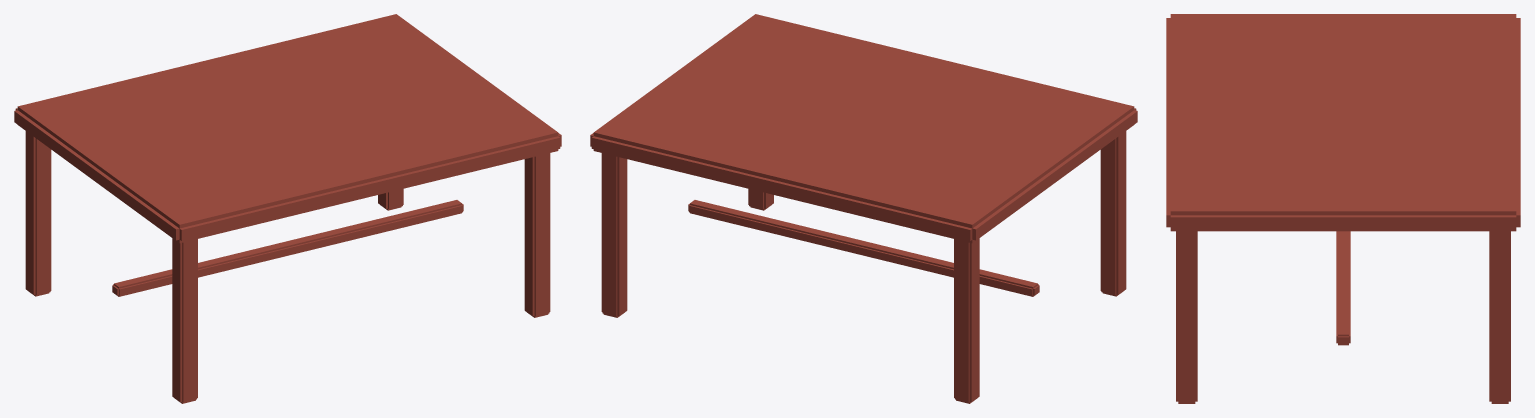
Rendered from rich_mahogany_table_v0.glb.
3 renders of one model, left to right at view 1: azimuth 30°, elevation 25°; view 2: azimuth 150°, elevation 25°; view 3: azimuth 270°, elevation 25°, orthographic. The views are drawn at different scales.
Visible parts, largest first — view 1: rich_mahogany_table_v0; view 2: rich_mahogany_table_v0; view 3: rich_mahogany_table_v0.
Part boxes in pixels (x1=…): rich_mahogany_table_v0: x1=14, y1=14, x2=561, y2=403; rich_mahogany_table_v0: x1=590, y1=14, x2=1137, y2=403; rich_mahogany_table_v0: x1=1166, y1=14, x2=1520, y2=403.
Bounding box in the file's own units: 1.96 × 0.89 × 1.46.
